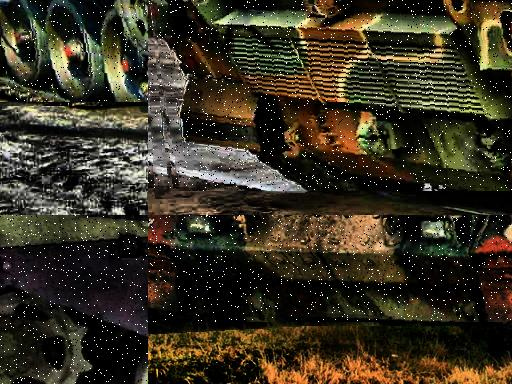tanks: (150, 1, 512, 192), (149, 216, 512, 323), (1, 216, 149, 384), (1, 1, 149, 103)
